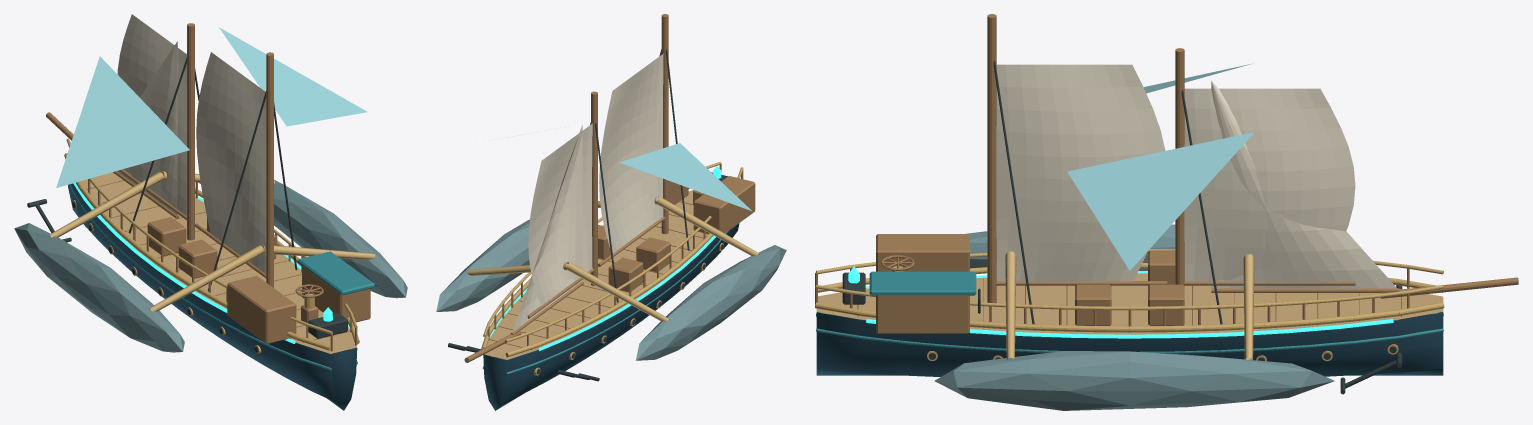
Rendered from ship_schooner.glb.
The picture shows the model from 3 angles, left to right: view 1: azimuth 30°, elevation 25°; view 2: azimuth 150°, elevation 25°; view 3: azimuth 270°, elevation 25°; orthographic projection. The views are drawn at different scales.
Visible parts, largest first — view 1: ship_schooner; view 2: ship_schooner; view 3: ship_schooner.
Part boxes in pixels (x1=…): ship_schooner: x1=14, y1=14, x2=407, y2=410; ship_schooner: x1=436, y1=14, x2=786, y2=410; ship_schooner: x1=815, y1=14, x2=1518, y2=410.
Size of the model in its own units: 8.2 by 7.6 by 13.47.
